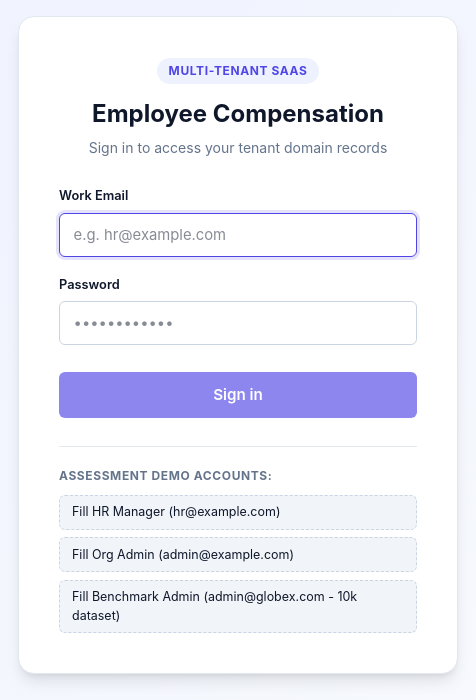
Scenario: LoginForm Component › populates credentials when clicking Fill Org Admin demo button
Click the button "Fill Org Admin (admin@example.com)": (238, 555) x1=59 y1=537 x2=417 y2=572
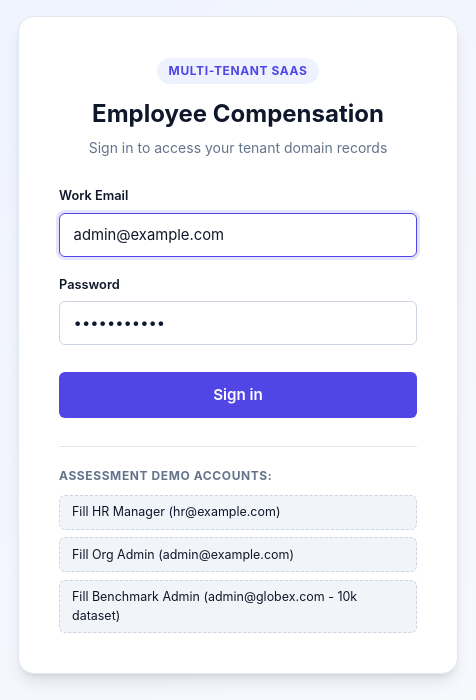
Result: the field labelled "Work Email" holds "admin@example.com" at x1=59 y1=212 x2=417 y2=256
Result: the password field labelled "Password" holds "password123" at x1=59 y1=301 x2=417 y2=345
Result: the button "Sign in" is enabled at x1=59 y1=372 x2=417 y2=418
